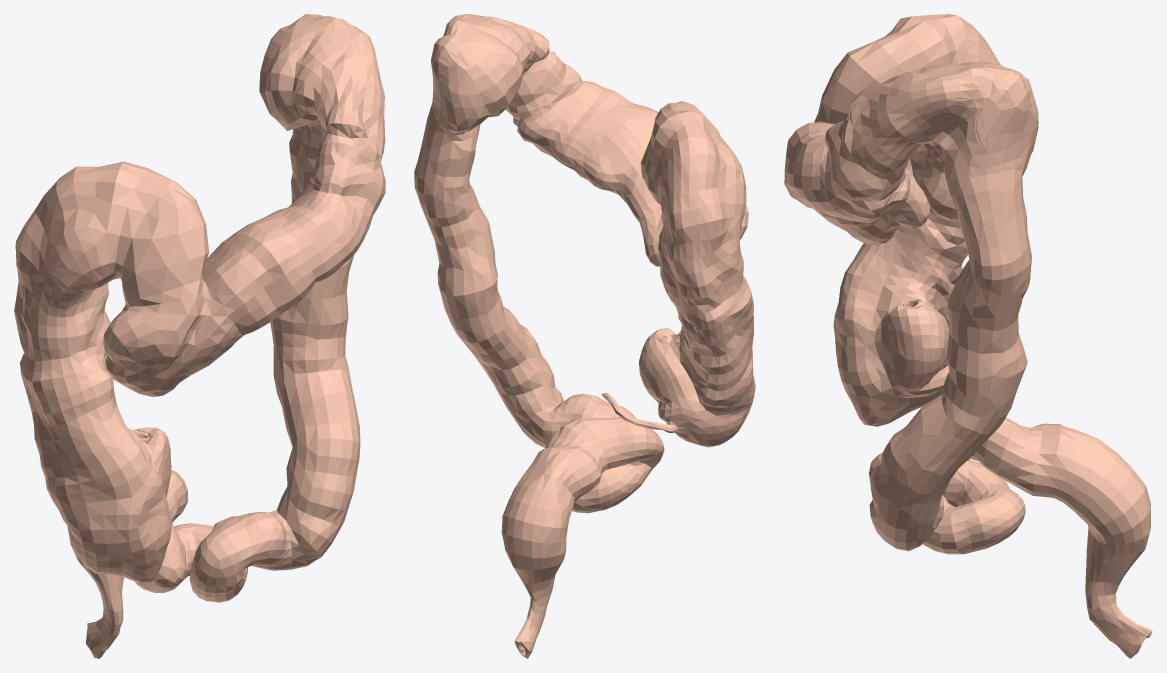
The model's file is SBU_M_Intestine_Large_0.6.glb.
3 renders of one model, left to right at view 1: azimuth 30°, elevation 25°; view 2: azimuth 150°, elevation 25°; view 3: azimuth 270°, elevation 25°, orthographic. The views are drawn at different scales.
Parts seen in each view (by area): view 1: VH_M_transverse_colon, VH_M_ascending_colon, VH_M_descending_colon, VH_M_caecum, VH_M_hepatic_flexure_of_colon, VH_M_sigmoid_colon, VH_M_splenic_flexure_of_colon, VH_M_rectum; view 2: VH_M_descending_colon, VH_M_ascending_colon, VH_M_transverse_colon, VH_M_rectum, VH_M_caecum, VH_M_sigmoid_colon, VH_M_splenic_flexure_of_colon, VH_M_hepatic_flexure_of_colon, VH_M_vermiform_appendix; view 3: VH_M_descending_colon, VH_M_transverse_colon, VH_M_caecum, VH_M_rectum, VH_M_splenic_flexure_of_colon, VH_M_sigmoid_colon, VH_M_ascending_colon, VH_M_hepatic_flexure_of_colon.
Part boxes in pixels (x1,y1,x2,y2): VH_M_transverse_colon: (103,14,385,397); VH_M_ascending_colon: (14,161,124,469); VH_M_descending_colon: (265,14,360,569); VH_M_caecum: (41,424,171,583); VH_M_hepatic_flexure_of_colon: (44,161,209,301); VH_M_sigmoid_colon: (134,469,292,602); VH_M_splenic_flexure_of_colon: (259,14,384,135); VH_M_rectum: (67,525,123,658); VH_M_descending_colon: (414,38,563,447); VH_M_ascending_colon: (648,111,753,384); VH_M_transverse_colon: (439,15,748,266); VH_M_rectum: (501,445,600,658); VH_M_caecum: (639,328,755,447); VH_M_sigmoid_colon: (543,393,664,513); VH_M_splenic_flexure_of_colon: (431,14,535,135); VH_M_hepatic_flexure_of_colon: (640,101,746,230); VH_M_vermiform_appendix: (602,393,677,432); VH_M_descending_colon: (869,70,1038,551); VH_M_transverse_colon: (784,62,1014,245); VH_M_caecum: (833,247,952,426); VH_M_rectum: (1032,423,1152,658); VH_M_splenic_flexure_of_colon: (868,61,1038,179); VH_M_sigmoid_colon: (869,417,1043,554); VH_M_ascending_colon: (861,14,1000,290); VH_M_hepatic_flexure_of_colon: (817,16,998,123).
Bounding box in the file's own units: 0.2591 × 0.4504 × 0.2248.
